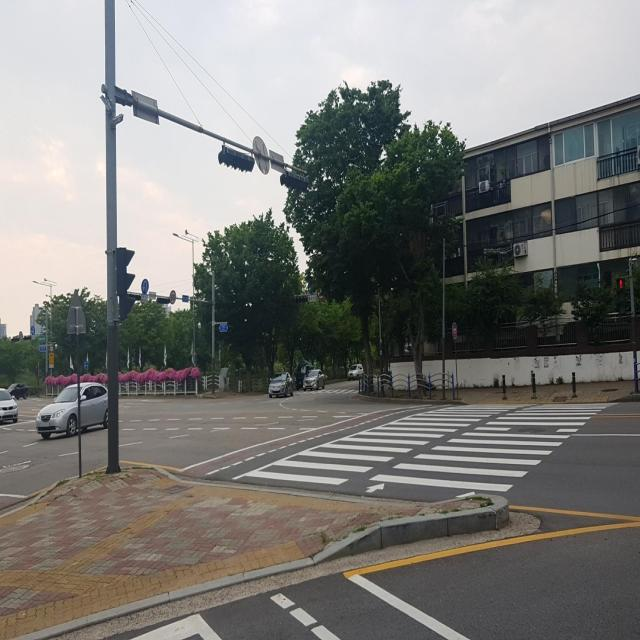횡단보도: (245, 402, 616, 498)
